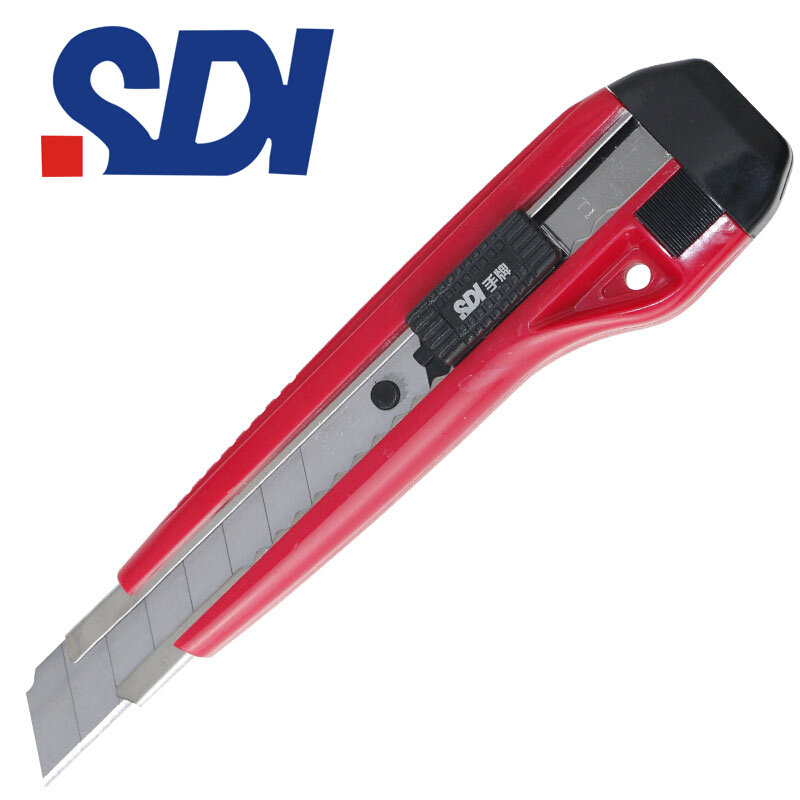cutter: (20, 49, 797, 791)
